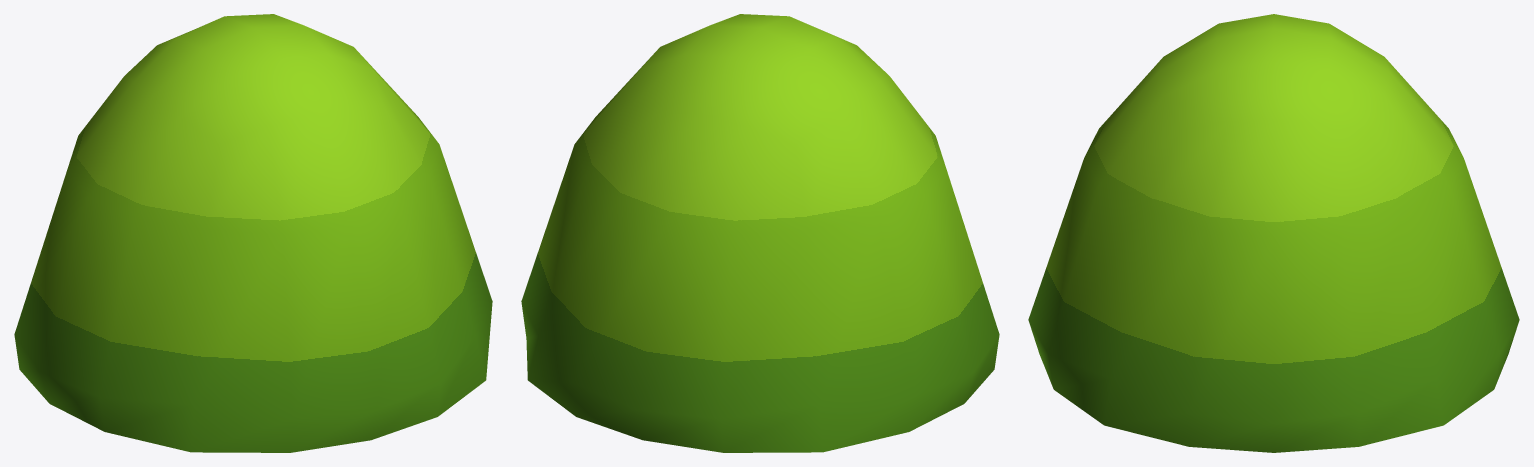
The model's file is Bush.fbx.
3 views of the same model, side by side, from view 1: azimuth 30°, elevation 25°; view 2: azimuth 150°, elevation 25°; view 3: azimuth 270°, elevation 25° (orthographic).
Visible parts, largest first — view 1: Roundcube.006; view 2: Roundcube.006; view 3: Roundcube.006.
Boxes of the visible parts, bbox=[...] form: Roundcube.006: bbox=[14, 14, 492, 452]; Roundcube.006: bbox=[521, 14, 999, 452]; Roundcube.006: bbox=[1028, 14, 1519, 452].
Bounding box in the file's own units: 65.39 × 47.73 × 65.39.
